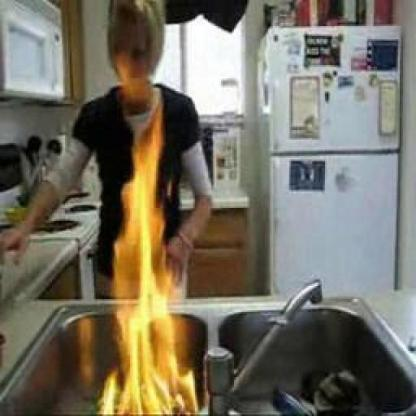fire: (110, 117, 192, 416)
